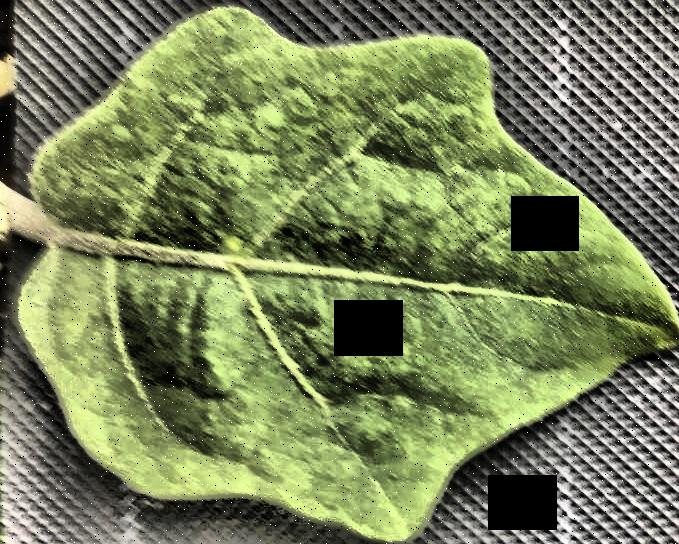HEALTHY: (1, 0, 679, 544)
